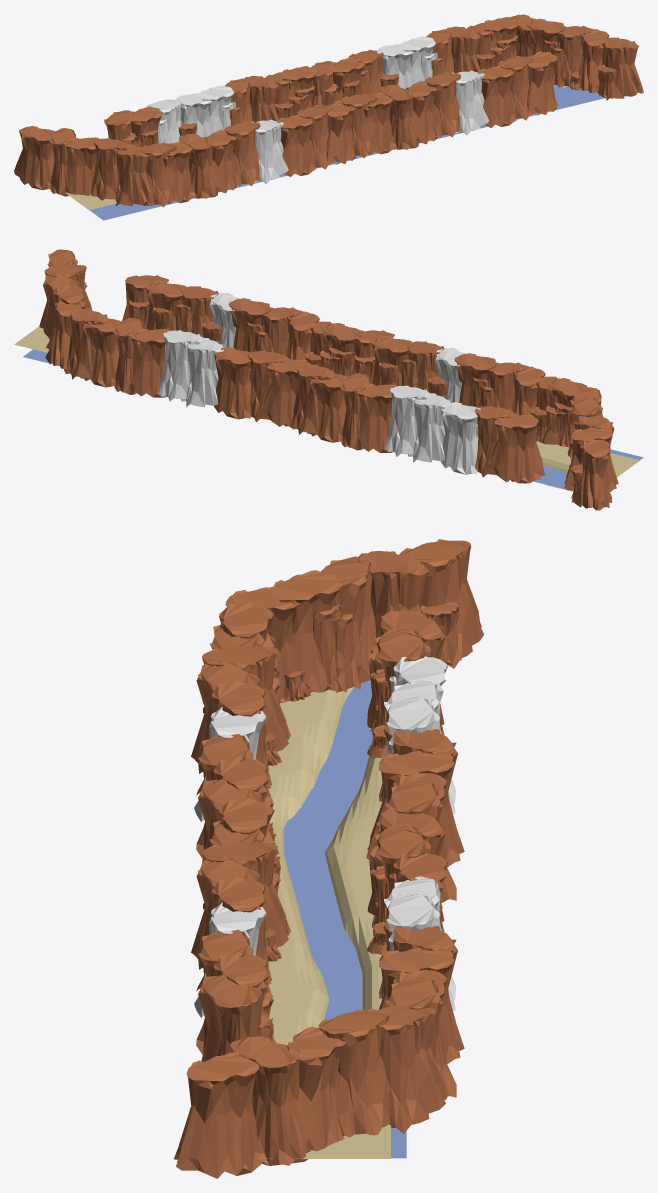
File: cliff.dae
The picture shows the model from 3 angles, top to bottom: view 1: azimuth 30°, elevation 25°; view 2: azimuth 150°, elevation 25°; view 3: azimuth 270°, elevation 25°; orthographic projection. The views are drawn at different scales.
Parts seen in each view (by area): view 1: Cylinder_114, Cylinder_120, Cylinder_109, Cylinder_036, Cylinder_067, Plane_001, Cylinder_073, Cylinder_049, Cylinder_069, Cylinder_034, Cylinder_054, Cylinder_112 (+38 smaller); view 2: Cylinder_025, Cylinder_084, Cylinder_002, Cylinder_003, Cylinder_099, Cylinder_114, Cylinder_078, Cylinder_083, Cylinder_001, Cylinder_082, Cylinder, Cylinder_022 (+42 smaller); view 3: Plane, Plane_001, Cylinder_109, Cylinder_110, Cylinder_103, Cylinder_102, Cylinder_111, Cylinder_114, Cylinder_121, Cylinder_073, Cylinder_113, Cylinder_004 (+35 smaller).
Part boxes in pixels (box(x1,y1,x2,y2)): Cylinder_114: box(14, 126, 55, 190); Cylinder_120: box(115, 144, 153, 206); Cylinder_109: box(599, 37, 643, 100); Cylinder_036: box(277, 114, 315, 176); Cylinder_067: box(478, 65, 516, 127); Plane_001: box(89, 85, 604, 220); Cylinder_073: box(527, 51, 558, 114); Cylinder_049: box(179, 133, 218, 198); Cylinder_069: box(425, 72, 460, 137); Cylinder_034: box(224, 121, 260, 186); Cylinder_054: box(379, 84, 418, 149); Cylinder_112: box(64, 137, 98, 195); Cylinder_025: box(486, 414, 544, 483); Cylinder_084: box(214, 346, 253, 419); Cylinder_002: box(441, 402, 480, 474); Cylinder_003: box(356, 384, 396, 452); Cylinder_099: box(130, 329, 169, 397); Cylinder_114: box(571, 439, 612, 510); Cylinder_078: box(259, 359, 311, 427); Cylinder_083: box(181, 337, 223, 407); Cylinder_001: box(408, 393, 450, 462); Cylinder_082: box(158, 330, 205, 401); Cylinder: box(385, 385, 431, 456); Cylinder_022: box(291, 364, 336, 434); Plane: box(259, 687, 390, 1158); Plane_001: box(283, 680, 406, 1158); Cylinder_109: box(174, 1052, 262, 1178); Cylinder_110: box(230, 1036, 310, 1165); Cylinder_103: box(368, 1006, 447, 1133); Cylinder_102: box(318, 1009, 390, 1137); Cylinder_111: box(287, 1026, 346, 1151); Cylinder_114: box(399, 539, 483, 668); Cylinder_121: box(270, 570, 341, 692); Cylinder_073: box(198, 974, 262, 1061); Cylinder_113: box(358, 551, 429, 643); Cylinder_004: box(366, 748, 464, 867).
Bounding box in the file's own units: 56.8 × 13.72 × 5.83.
